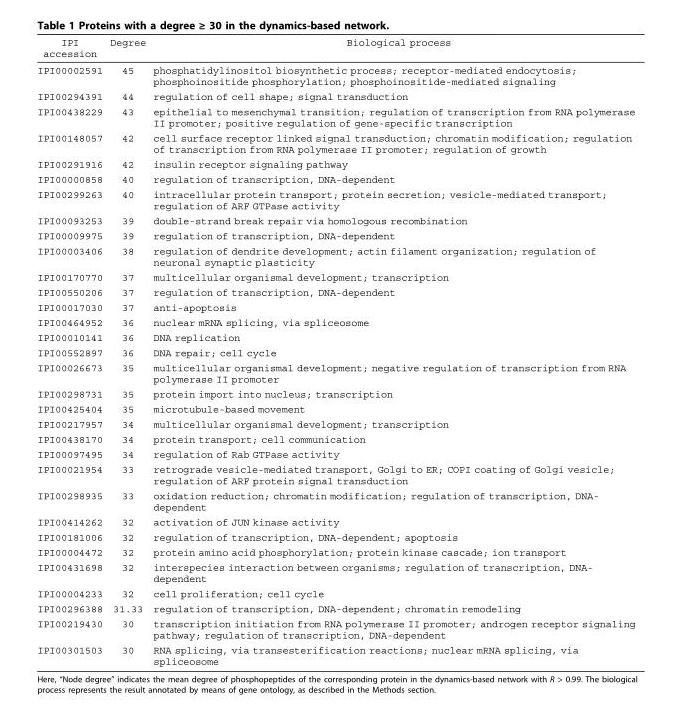table: (36, 36, 634, 666)
table column: (148, 36, 634, 666), (36, 36, 105, 666), (105, 36, 148, 666)
table column header: (36, 36, 634, 61)
table row: (36, 61, 634, 88), (36, 103, 634, 130), (36, 359, 634, 386), (36, 487, 634, 514), (36, 615, 634, 642), (36, 130, 634, 156), (36, 186, 634, 212), (36, 243, 634, 269), (36, 461, 634, 487), (36, 559, 634, 585), (36, 36, 634, 61), (36, 642, 634, 666), (36, 227, 634, 243), (36, 88, 634, 103), (36, 156, 634, 171), (36, 171, 634, 186), (36, 212, 634, 227), (36, 269, 634, 284), (36, 284, 634, 299), (36, 299, 634, 314), (36, 314, 634, 329), (36, 329, 634, 344), (36, 344, 634, 359), (36, 386, 634, 401), (36, 401, 634, 416), (36, 416, 634, 431), (36, 431, 634, 446), (36, 446, 634, 461), (36, 514, 634, 529), (36, 529, 634, 544), (36, 544, 634, 559), (36, 585, 634, 600), (36, 600, 634, 615)
